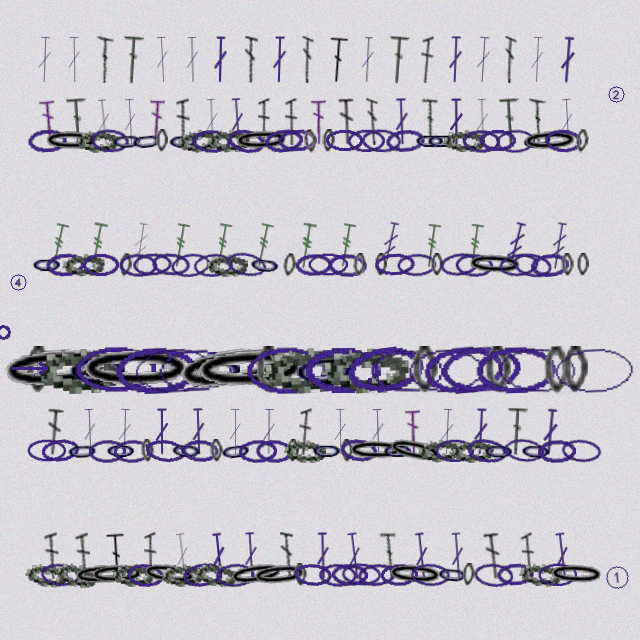chain: (171, 338, 294, 401), (0, 342, 118, 397), (191, 344, 310, 396), (77, 346, 195, 393), (344, 341, 428, 398), (261, 343, 351, 396), (132, 344, 217, 396), (34, 345, 122, 395), (422, 343, 505, 396), (439, 343, 522, 396), (321, 345, 409, 394), (114, 345, 197, 395), (552, 345, 635, 395), (154, 344, 235, 395), (405, 345, 486, 395), (475, 345, 556, 394), (496, 345, 577, 394), (246, 346, 327, 394), (75, 346, 156, 393), (367, 346, 446, 394), (304, 346, 383, 393), (291, 345, 359, 395), (65, 345, 132, 394), (181, 346, 247, 394), (385, 434, 445, 468), (227, 559, 286, 590), (140, 560, 199, 589), (251, 561, 309, 589), (386, 561, 444, 588), (521, 128, 579, 154), (72, 562, 130, 588), (466, 252, 524, 277), (233, 128, 290, 153), (89, 562, 146, 587), (548, 562, 605, 587), (43, 129, 100, 153), (224, 249, 268, 280), (54, 560, 99, 590), (347, 439, 404, 462), (176, 126, 221, 155), (511, 250, 553, 280), (544, 346, 570, 394), (465, 436, 508, 465), (181, 560, 224, 589), (226, 126, 267, 156), (256, 346, 282, 393), (412, 346, 438, 393), (485, 346, 511, 393), (417, 437, 461, 464), (194, 561, 238, 588), (144, 437, 186, 465), (26, 346, 51, 393), (563, 346, 588, 393), (170, 251, 211, 279), (503, 437, 545, 464), (451, 438, 494, 464), (25, 562, 68, 588), (161, 562, 204, 588), (263, 127, 304, 154), (439, 251, 480, 278), (40, 437, 81, 464), (498, 252, 540, 278), (339, 437, 379, 464), (207, 128, 250, 153), (62, 252, 105, 277), (519, 562, 562, 587), (193, 252, 234, 278), (529, 252, 570, 278), (561, 438, 602, 464), (40, 562, 81, 588), (473, 562, 514, 588), (385, 128, 425, 154), (293, 562, 333, 588), (357, 562, 397, 588), (361, 128, 402, 153), (132, 252, 173, 277), (374, 252, 415, 277), (341, 562, 382, 587), (126, 562, 165, 588), (76, 129, 118, 153), (206, 253, 248, 277), (284, 439, 326, 463), (112, 563, 154, 587), (27, 128, 67, 153), (90, 128, 130, 153), (277, 128, 317, 153), (45, 252, 85, 277), (151, 252, 191, 277), (544, 128, 583, 153), (496, 562, 535, 587), (443, 129, 485, 152), (191, 129, 231, 153), (327, 253, 367, 277), (397, 253, 437, 277), (215, 563, 255, 587), (318, 563, 358, 587), (410, 563, 450, 587), (520, 127, 555, 154), (462, 129, 501, 153), (496, 129, 535, 153), (119, 253, 158, 277), (88, 439, 127, 463), (113, 439, 152, 463), (181, 439, 220, 463), (238, 439, 277, 463), (255, 439, 294, 463), (537, 439, 576, 463), (380, 563, 419, 587), (308, 253, 348, 276), (295, 253, 333, 277), (455, 253, 493, 277), (331, 563, 369, 587), (325, 129, 364, 152), (27, 439, 66, 462), (435, 439, 474, 462), (538, 563, 577, 586), (130, 128, 164, 154), (248, 252, 282, 278), (219, 438, 253, 464), (347, 129, 385, 152), (479, 129, 517, 152), (82, 253, 120, 276), (170, 438, 203, 463), (436, 562, 469, 587), (167, 129, 200, 153), (66, 439, 99, 463), (111, 129, 143, 153), (483, 439, 515, 463), (520, 439, 552, 463), (414, 129, 446, 152), (426, 129, 458, 152), (31, 253, 63, 276), (105, 439, 137, 462), (311, 439, 343, 462), (382, 439, 414, 462), (303, 129, 318, 153), (118, 253, 133, 277), (282, 253, 297, 277), (575, 129, 589, 153), (322, 129, 335, 152), (353, 253, 366, 276), (561, 253, 574, 276), (141, 439, 154, 462), (210, 439, 223, 462), (294, 563, 307, 586), (462, 563, 475, 586), (156, 129, 168, 152), (375, 253, 387, 276), (431, 253, 443, 276), (577, 253, 589, 276), (287, 439, 299, 462), (341, 439, 353, 462)
double: (387, 36, 410, 84), (66, 98, 89, 146), (122, 36, 144, 84), (327, 36, 349, 84), (499, 98, 521, 146), (506, 408, 528, 455), (106, 532, 127, 580), (172, 532, 193, 580), (344, 532, 365, 580), (411, 532, 432, 580), (483, 532, 504, 580), (552, 532, 573, 580), (94, 98, 114, 146), (209, 532, 229, 580), (558, 36, 577, 84), (39, 98, 58, 146), (45, 408, 64, 456), (541, 408, 560, 456), (448, 532, 467, 580), (95, 36, 114, 83), (228, 98, 247, 145), (379, 532, 398, 579), (153, 36, 171, 83), (474, 36, 492, 83), (528, 36, 546, 83), (121, 98, 139, 145), (203, 98, 221, 145), (338, 98, 356, 145), (420, 98, 438, 145), (558, 98, 576, 145), (438, 408, 456, 455), (242, 532, 260, 579), (75, 532, 92, 580), (520, 532, 537, 580), (36, 36, 53, 83), (184, 36, 201, 83), (212, 36, 229, 83), (271, 36, 288, 83), (359, 36, 376, 83), (447, 36, 464, 83), (148, 98, 165, 145), (393, 98, 410, 145), (474, 98, 491, 145), (529, 98, 546, 145), (81, 408, 98, 455), (116, 408, 133, 455), (190, 408, 207, 455), (369, 408, 386, 455), (472, 408, 489, 455), (66, 36, 82, 83), (242, 36, 258, 83), (448, 98, 464, 145), (154, 408, 170, 455), (227, 408, 243, 455), (261, 408, 277, 455), (332, 408, 348, 455), (405, 408, 421, 455), (44, 532, 60, 579), (315, 532, 331, 579), (502, 36, 517, 83), (311, 98, 326, 145), (300, 36, 314, 83), (420, 36, 434, 83), (176, 98, 190, 145), (298, 408, 312, 455), (280, 532, 294, 579), (285, 98, 298, 145), (366, 98, 379, 145), (144, 532, 157, 579), (258, 98, 270, 145)
noise: (603, 563, 632, 592), (10, 360, 50, 376), (606, 84, 627, 105), (8, 272, 29, 293), (0, 323, 12, 341)
treble: (502, 221, 529, 270), (46, 221, 71, 270), (85, 221, 110, 270), (251, 221, 276, 270), (377, 221, 402, 270), (169, 221, 192, 270), (211, 221, 234, 270), (335, 221, 358, 270), (295, 222, 318, 270), (547, 222, 570, 270), (129, 222, 151, 270), (421, 222, 443, 270), (464, 222, 486, 270)
